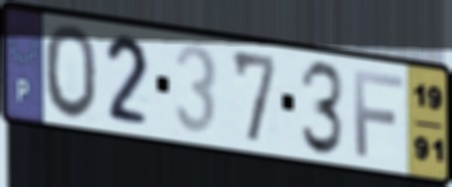2: (101, 31, 155, 132)
3: (171, 42, 222, 139), (298, 57, 346, 159)
7: (229, 47, 281, 146)
F: (351, 67, 406, 161)
O: (42, 21, 100, 123)
